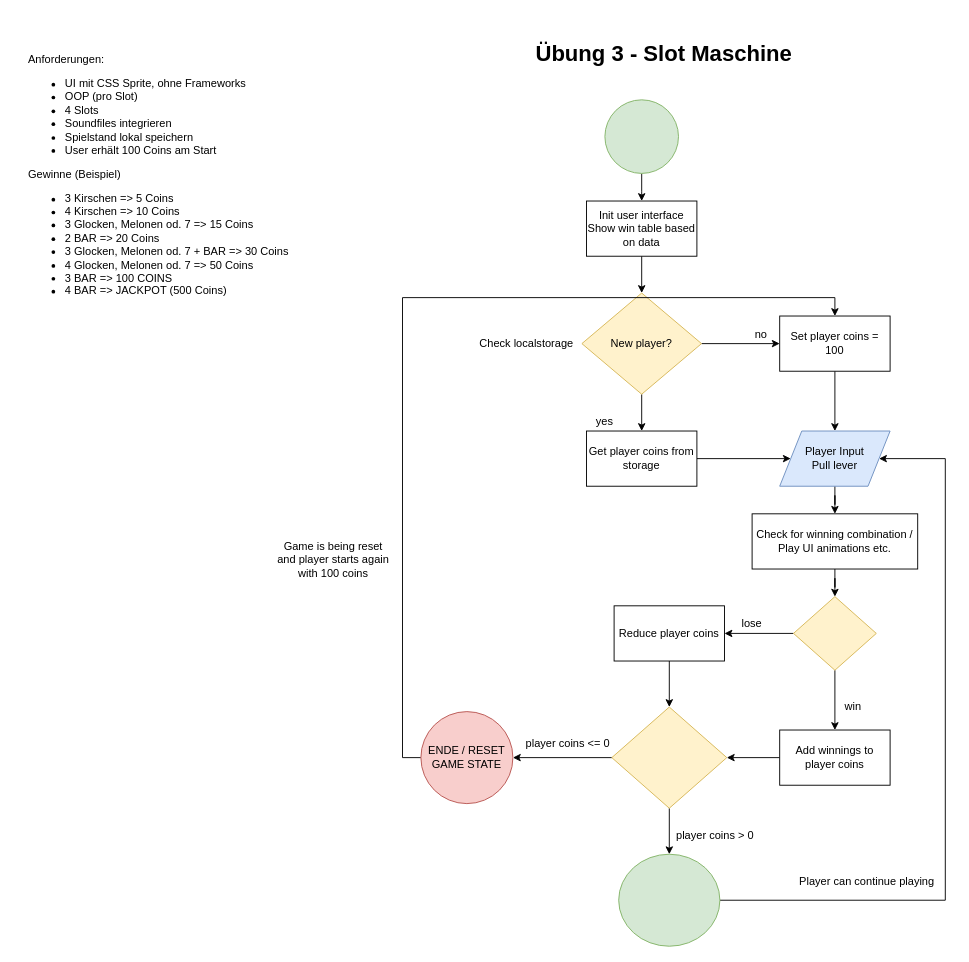
The diagram is 969 pixels wide and 962 high, and some of its shapes have lost their labels. Each missing label, with the centre of its shape:
Check player coins: point (669, 757)
Save Game State: point (669, 899)
START: point (641, 136)
Win or lose: point (834, 633)
